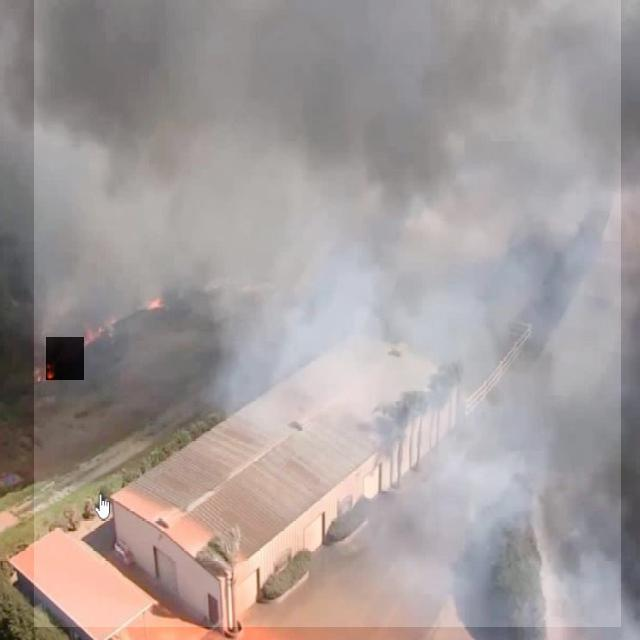Fire: (46, 337, 84, 380)
Smoke: (34, 0, 621, 627)
